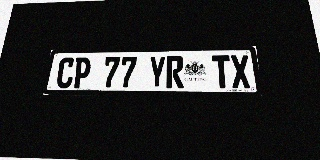7: (101, 57, 120, 88), (119, 56, 137, 88)
C: (55, 57, 76, 88)
P: (72, 57, 92, 88)
R: (166, 56, 184, 88)
T: (212, 55, 232, 88)
X: (230, 55, 251, 88)
Y: (148, 56, 166, 88)
